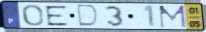1: (143, 5, 156, 29)
3: (104, 5, 126, 27)
D: (77, 4, 101, 28)
E: (44, 5, 71, 27)
M: (158, 5, 188, 29)
O: (21, 4, 45, 27)
